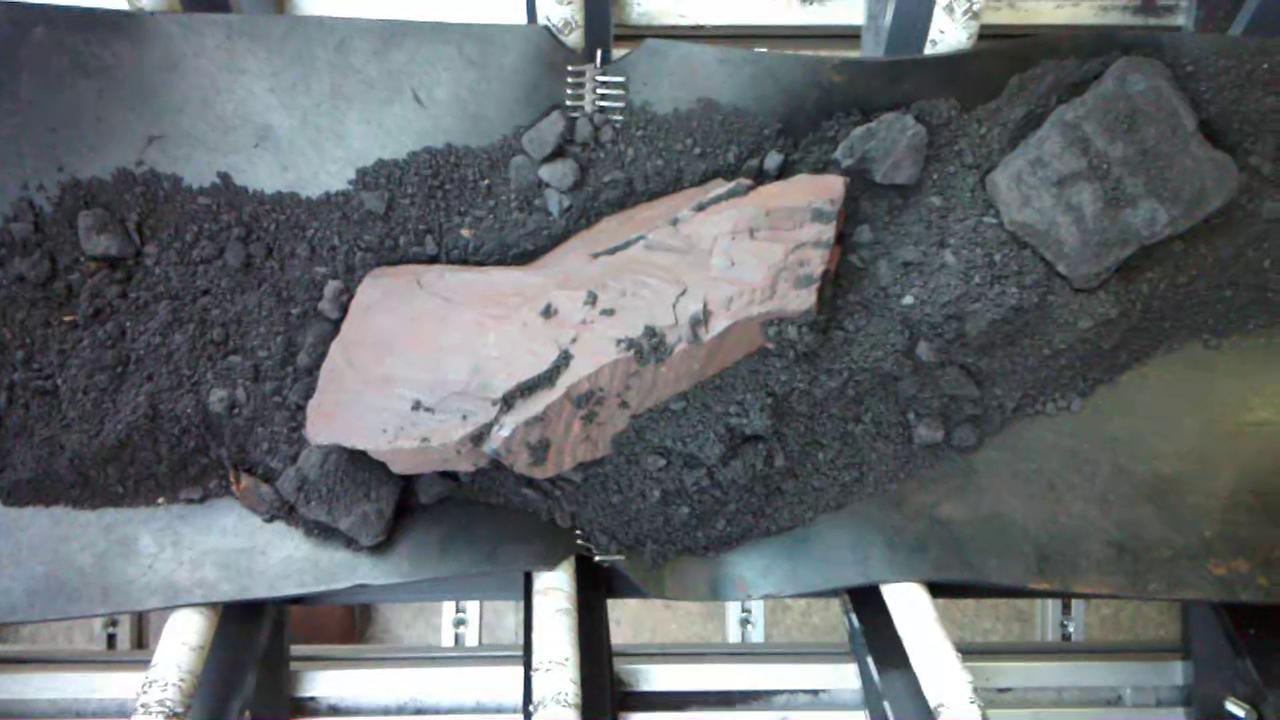conveyor: (3, 58, 1280, 572)
